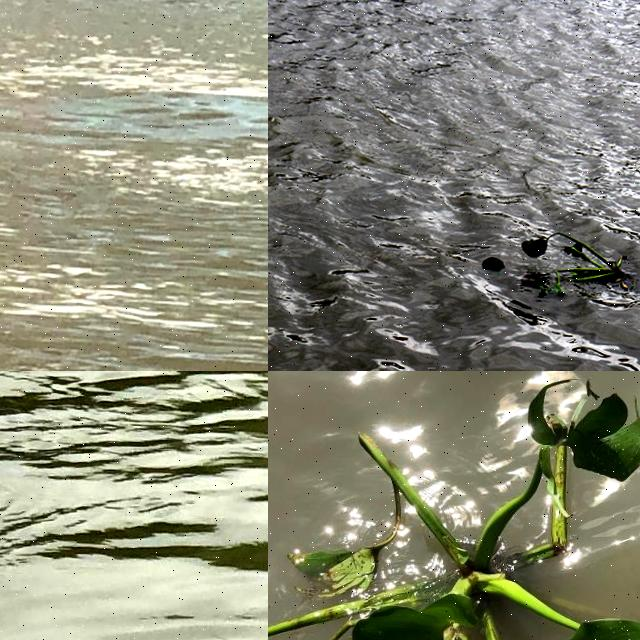water-hyacinth: (269, 372, 640, 640), (482, 223, 638, 304)
